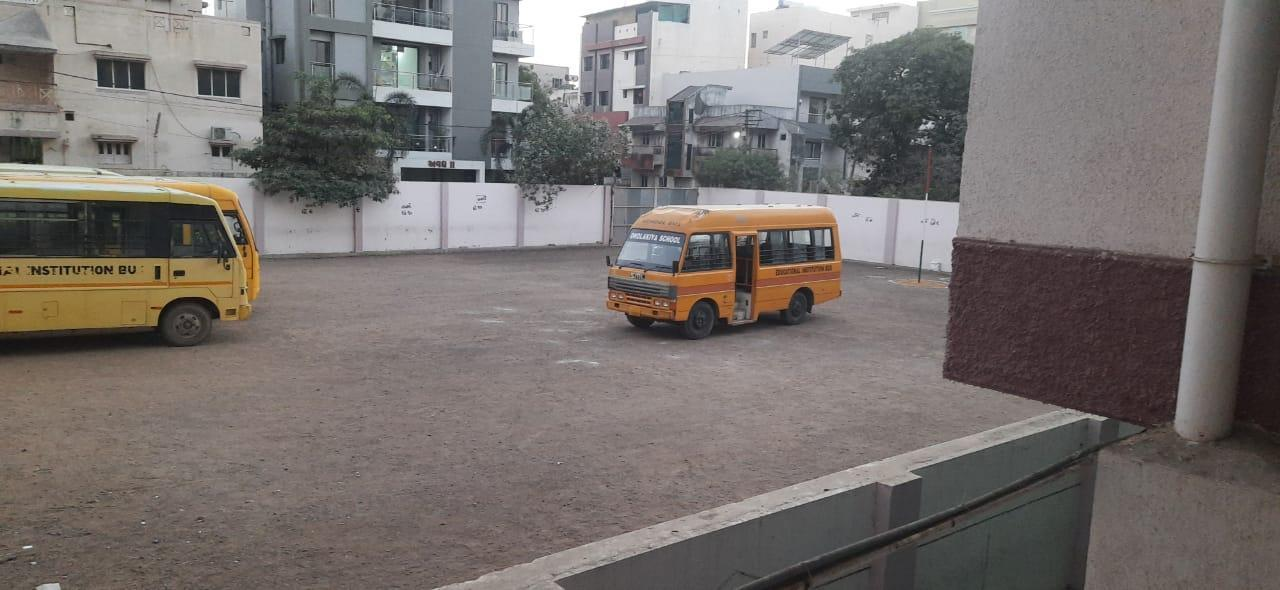Bus: (13, 178, 250, 364), (589, 193, 865, 344), (212, 178, 288, 320)
